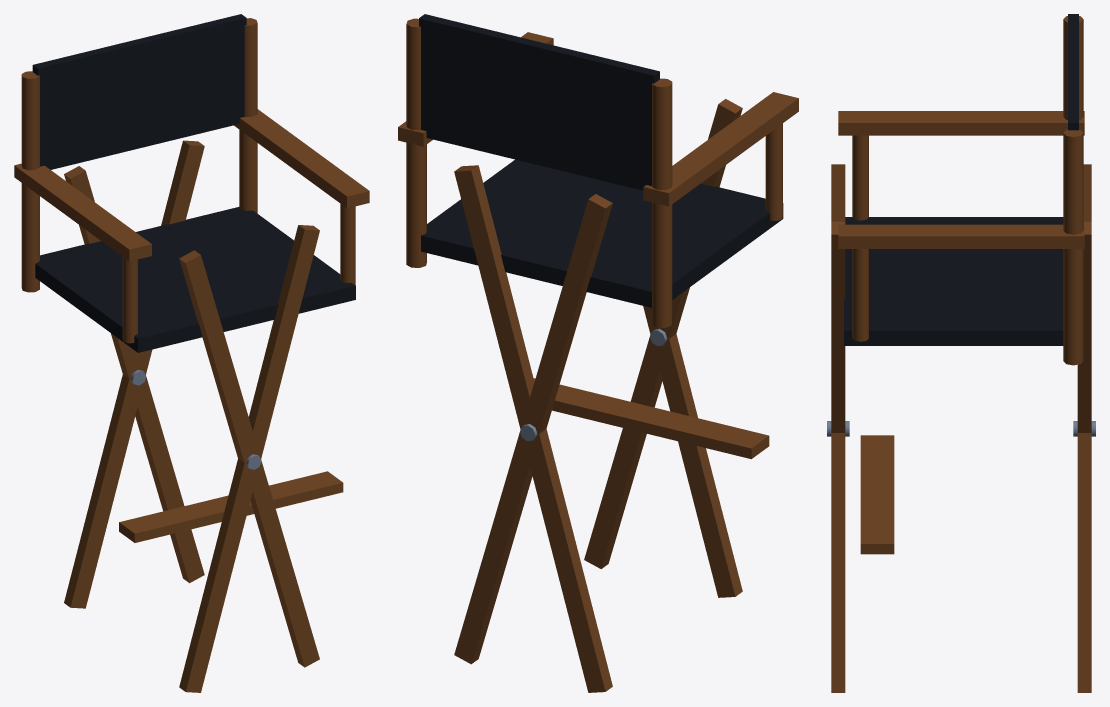
The model's file is director_chair.glb.
3 views of the same model, side by side, from view 1: azimuth 30°, elevation 25°; view 2: azimuth 150°, elevation 25°; view 3: azimuth 270°, elevation 25° (orthographic). The views are drawn at different scales.
Parts seen in each view (by area): view 1: DirectorChair; view 2: DirectorChair; view 3: DirectorChair.
Boxes of the visible parts, box(x1,y1,x2,y2) form: DirectorChair: box(14, 14, 369, 692); DirectorChair: box(398, 14, 798, 692); DirectorChair: box(827, 14, 1095, 692).
Bounding box in the file's own units: 0.53 × 1.17 × 0.48.
